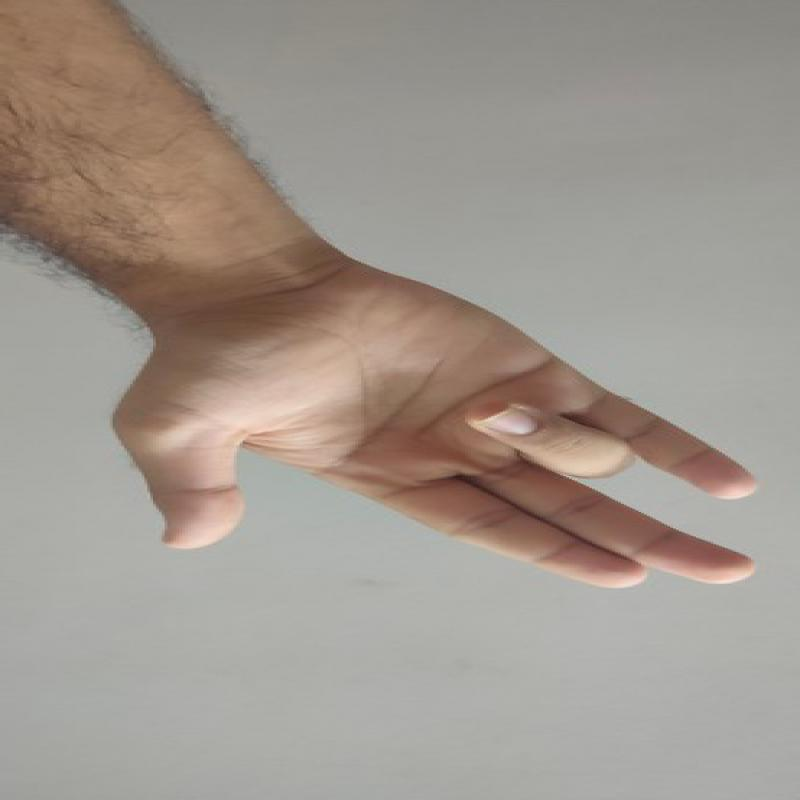Pathaaka: (101, 246, 769, 600)
